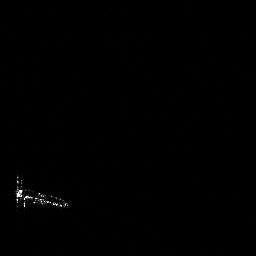ship: (10, 170, 73, 211)
